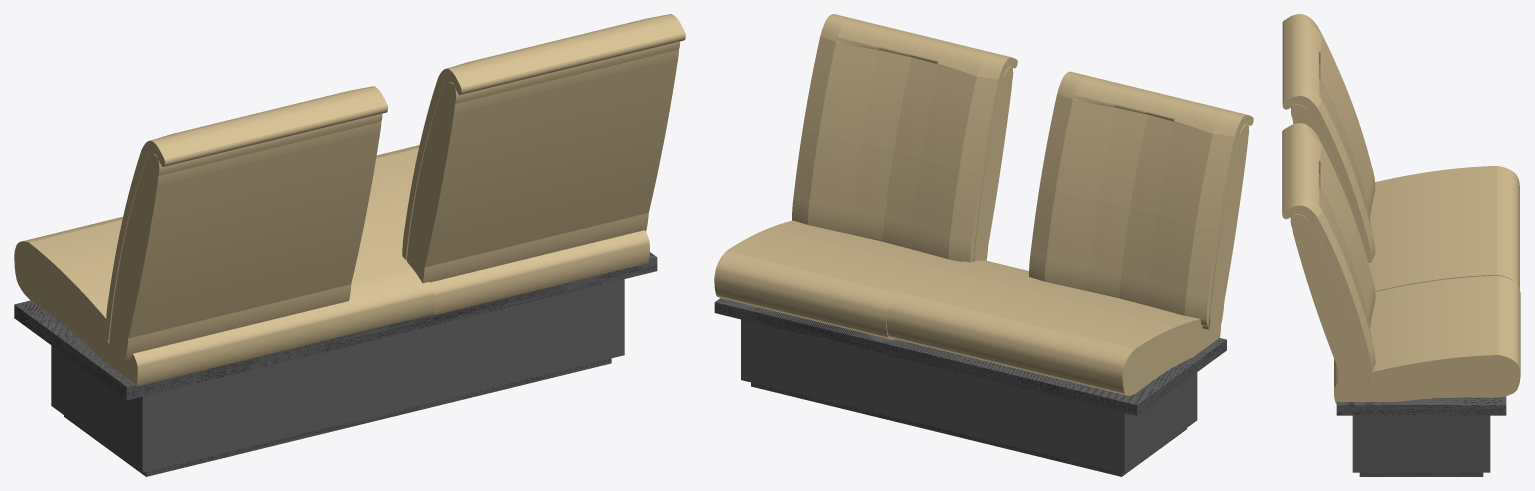
The picture shows the model from 3 angles, left to right: view 1: azimuth 30°, elevation 25°; view 2: azimuth 150°, elevation 25°; view 3: azimuth 270°, elevation 25°; orthographic projection. The views are drawn at different scales.
Parts seen in each view (by area): view 1: mesh21_mesh21-geometry, mesh1_mesh1-geometry, mesh11_mesh11-geometry, mesh19_mesh19-geometry, mesh9_mesh9-geometry; view 2: mesh1_mesh1-geometry, mesh11_mesh11-geometry, mesh21_mesh21-geometry, mesh19_mesh19-geometry, mesh9_mesh9-geometry; view 3: mesh9_mesh9-geometry, mesh19_mesh19-geometry, mesh1_mesh1-geometry, mesh21_mesh21-geometry, mesh11_mesh11-geometry.
Boxes of the visible parts, box(x1,y1,x2,y2) form: mesh21_mesh21-geometry: box(14, 252, 657, 476); mesh1_mesh1-geometry: box(402, 14, 685, 283); mesh11_mesh11-geometry: box(106, 86, 387, 361); mesh19_mesh19-geometry: box(14, 208, 434, 386); mesh9_mesh9-geometry: box(367, 145, 649, 315); mesh1_mesh1-geometry: box(792, 14, 1017, 262); mesh11_mesh11-geometry: box(1029, 71, 1253, 330); mesh21_mesh21-geometry: box(714, 298, 1226, 476); mesh19_mesh19-geometry: box(886, 260, 1220, 395); mesh9_mesh9-geometry: box(714, 220, 960, 339); mesh9_mesh9-geometry: box(1334, 275, 1520, 404); mesh19_mesh19-geometry: box(1368, 166, 1519, 291); mesh1_mesh1-geometry: box(1282, 123, 1375, 388); mesh21_mesh21-geometry: box(1336, 396, 1506, 476); mesh11_mesh11-geometry: box(1282, 14, 1375, 262).
Bounding box in the file's own units: 0.7635 × 0.5113 × 0.3946.
